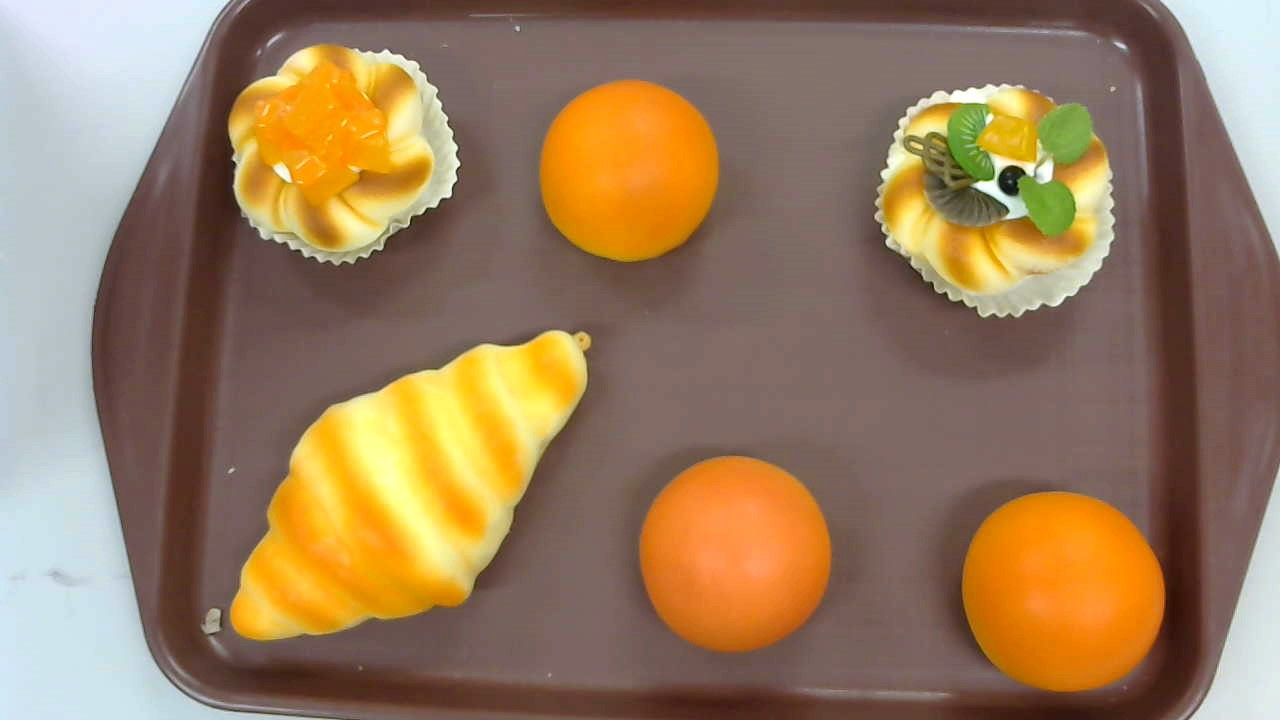bun: (960, 491, 1164, 691), (638, 455, 831, 652), (540, 80, 718, 263)
croissant: (230, 330, 590, 641)
fruit tart: (873, 84, 1115, 320)
mango tart: (226, 43, 459, 266)
